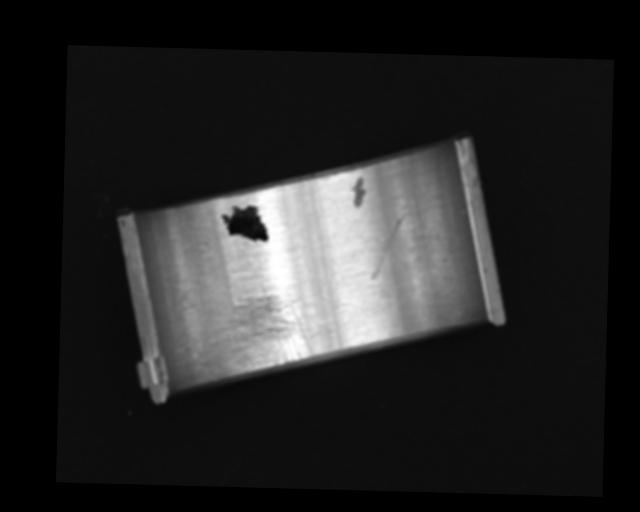blot: (219, 203, 270, 242)
bruise: (350, 175, 368, 208)
nick: (310, 180, 334, 297), (370, 211, 405, 283)
scratch: (198, 281, 316, 384)
